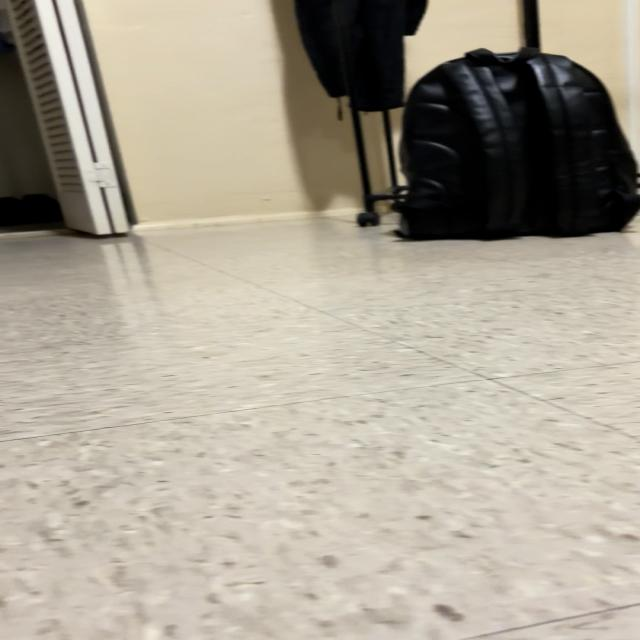backpack: (395, 48, 639, 238)
